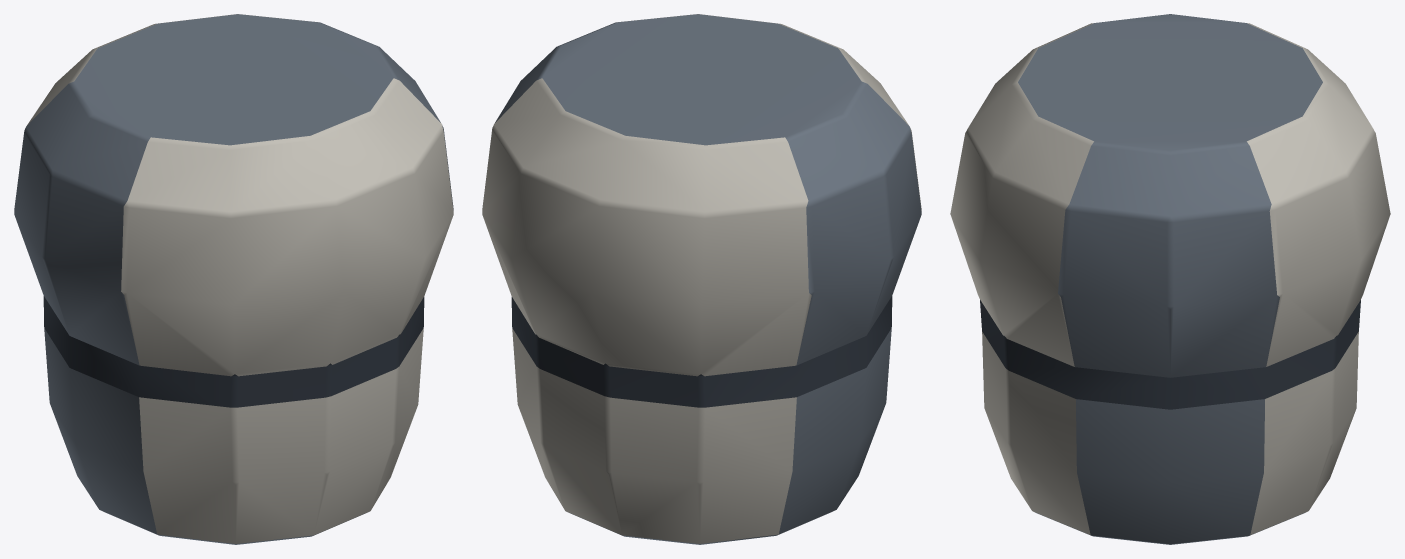
The model's file is shin.glb.
3 renders of one model, left to right at view 1: azimuth 30°, elevation 25°; view 2: azimuth 150°, elevation 25°; view 3: azimuth 270°, elevation 25°, orthographic.
Visible parts, largest first — view 1: shin; view 2: shin; view 3: shin.
Boxes of the visible parts, x1=… form: shin: x1=14, y1=14, x2=453, y2=544; shin: x1=482, y1=14, x2=921, y2=544; shin: x1=950, y1=14, x2=1390, y2=544.
Bounding box in the file's own units: 0.9959 × 1 × 1.
